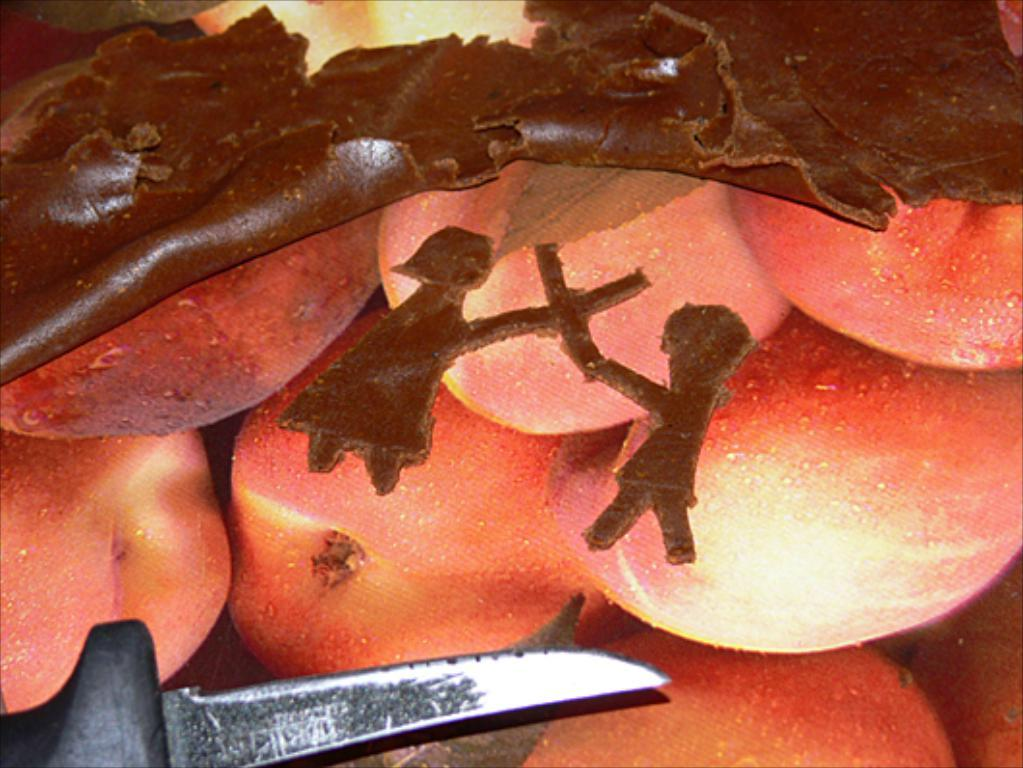Knife: (0, 619, 670, 766)
